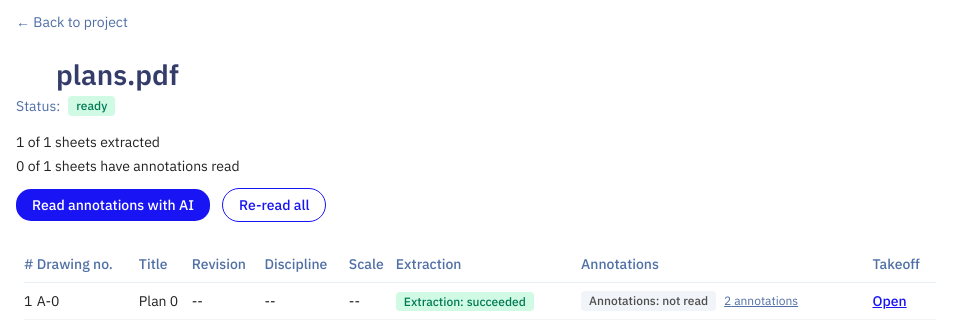
SheetIndexPage annotations › posts force=false, then shows the queued count
The image size is (953, 328).
Step 1. Click the button "Read annotations with AI" → {"x": 113, "y": 205}, box left=16, top=189, right=210, bottom=221
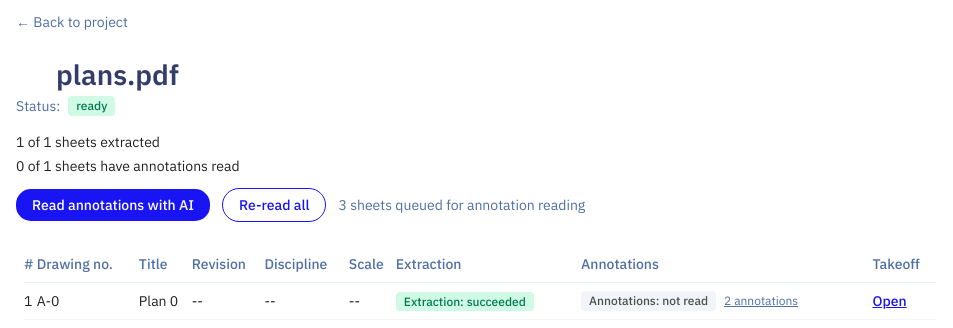
Check: the text "3 sheets queued for annotation reading" is shown, box left=338, top=195, right=585, bottom=215
